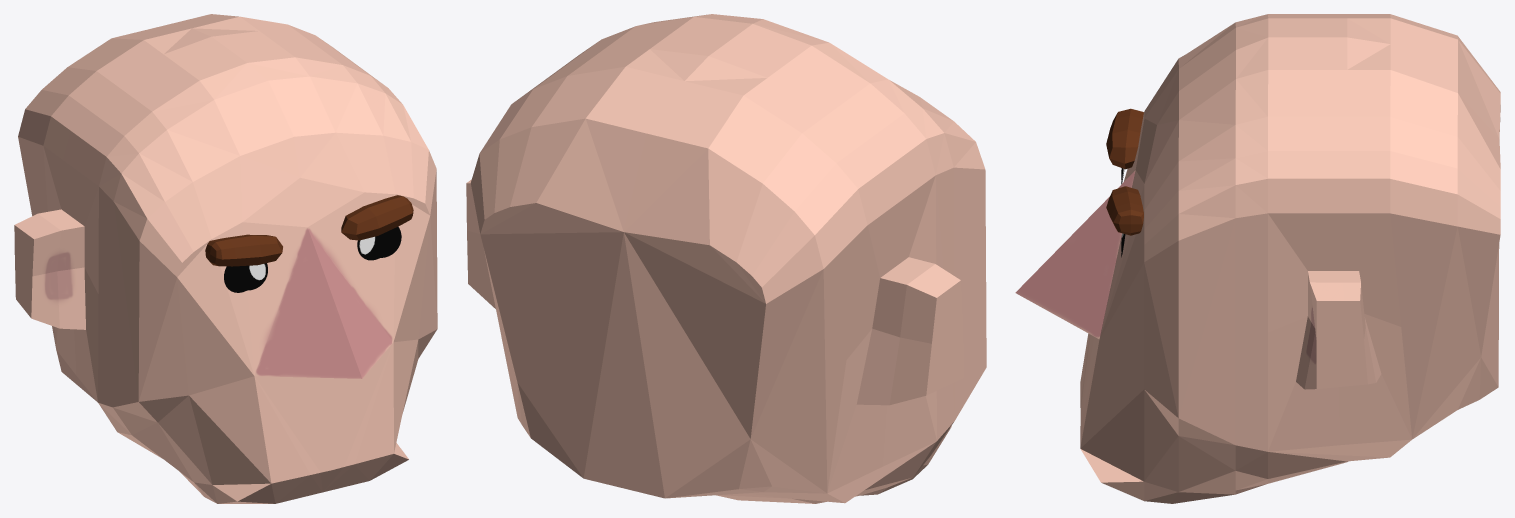
Rendered from villager.fbx.
3 views of the same model, side by side, from view 1: azimuth 30°, elevation 25°; view 2: azimuth 150°, elevation 25°; view 3: azimuth 270°, elevation 25° (orthographic). The views are drawn at different scales.
Parts seen in each view (by area): view 1: Head, Left Eyebrow, Right Eyebrow, Left Eye, Right Eye; view 2: Head; view 3: Head, Right Eyebrow, Left Eyebrow.
Boxes of the visible parts, x1,y1,x2,y2 form: Head: (14,14,437,503); Left Eyebrow: (341,195,413,240); Right Eyebrow: (205,234,282,266); Left Eye: (224,263,267,292); Right Eye: (357,226,401,260); Head: (466,14,986,503); Head: (1015,14,1500,503); Right Eyebrow: (1106,108,1143,169); Left Eyebrow: (1106,186,1143,235).
Size of the model in its own units: 203 by 195 by 200.
